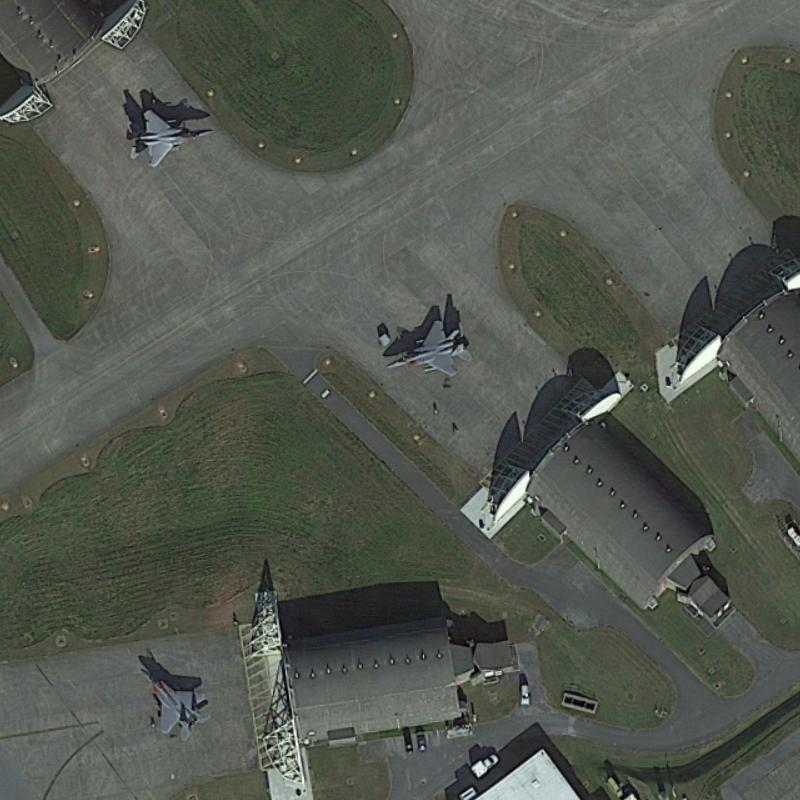A13: (135, 663, 214, 742), (125, 104, 214, 166), (381, 317, 473, 375)
